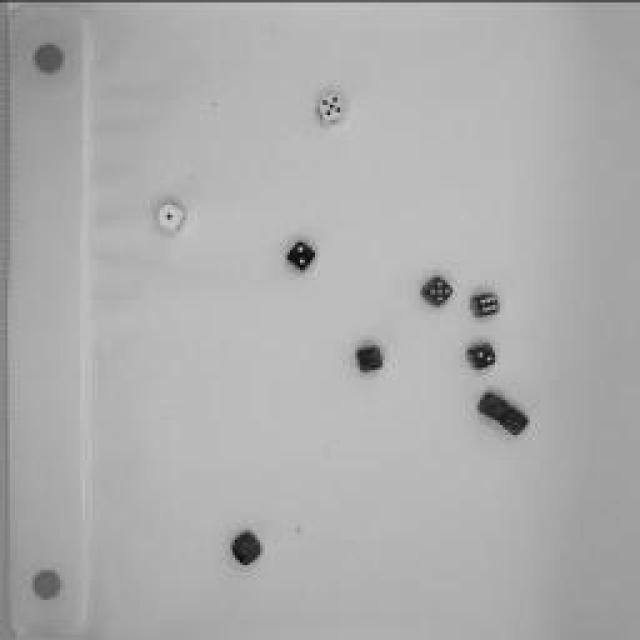dice_1: (146, 196, 192, 234)
dice_2: (460, 335, 502, 375), (282, 238, 322, 278), (476, 391, 509, 421)
dice_3: (351, 339, 384, 376)
dice_4: (230, 528, 265, 568), (498, 404, 530, 436)
dice_5: (416, 272, 454, 312), (314, 89, 346, 129)
dice_6: (467, 289, 505, 321)
